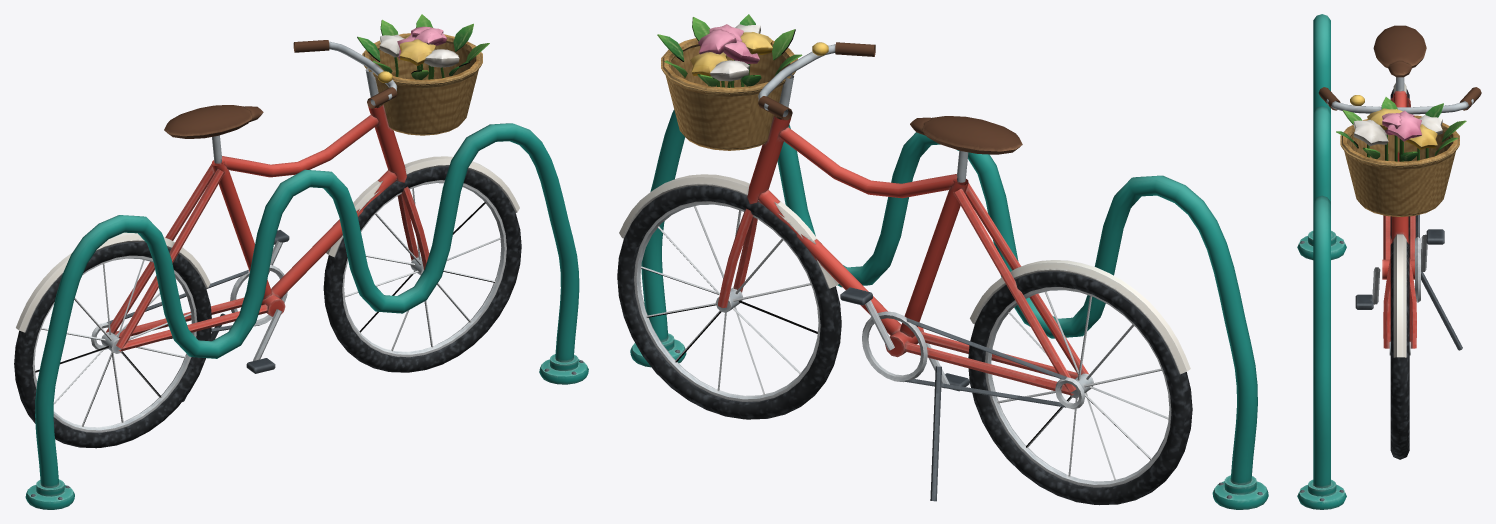
Rendered from bike-rack.fbx.
3 views of the same model, side by side, from view 1: azimuth 30°, elevation 25°; view 2: azimuth 150°, elevation 25°; view 3: azimuth 270°, elevation 25° (orthographic). The views are drawn at different scales.
Visible parts, largest first — view 1: Body; view 2: Body; view 3: Body.
Boxes of the visible parts, x1,y1,x2,y2 form: Body: (14, 14, 588, 509); Body: (617, 14, 1268, 509); Body: (1297, 14, 1481, 509).
Size of the model in its own units: 1.8 by 1.06 by 0.5199.
